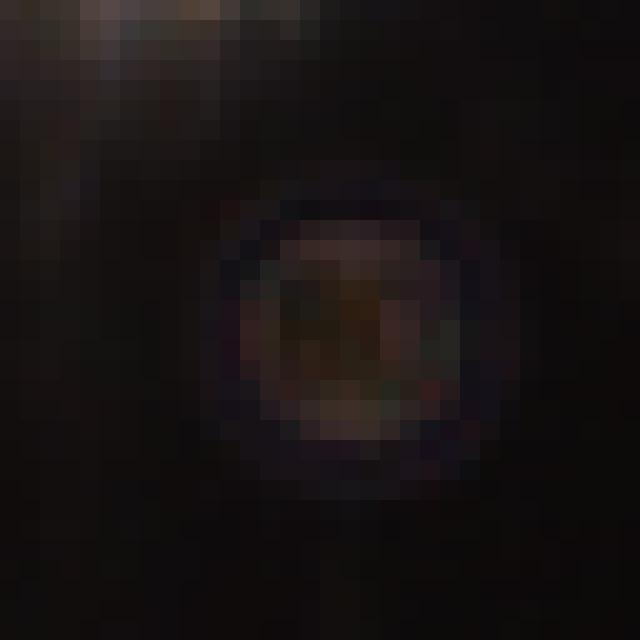SPEED-LIMIT-80: (201, 173, 509, 479)
